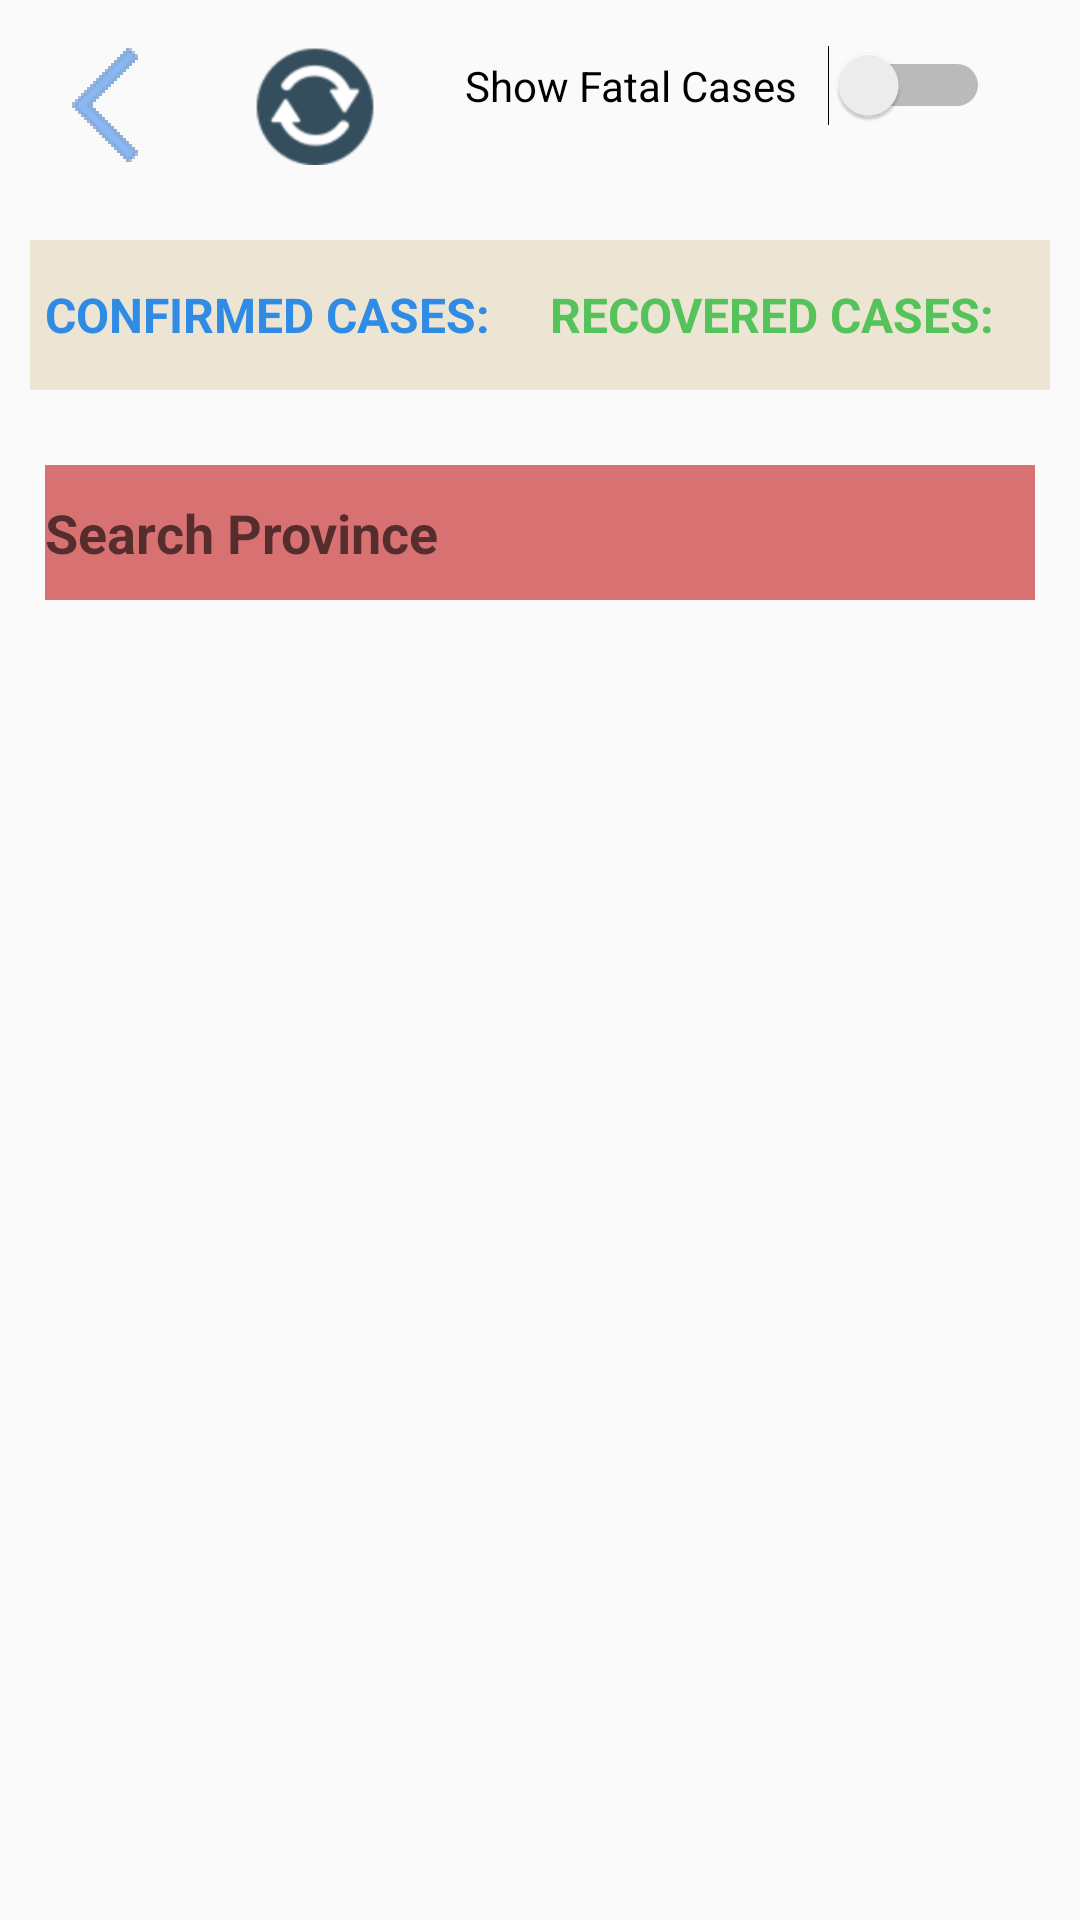

Where icons sit on this 1080w x 1920h app screen, as (x1, y1, x2, y2):
back: (72, 48, 138, 162)
refresh: (256, 48, 374, 165)
